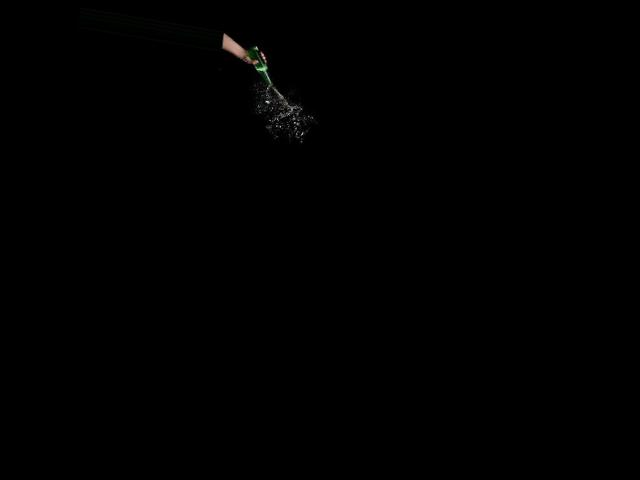beer: (241, 43, 278, 86)
